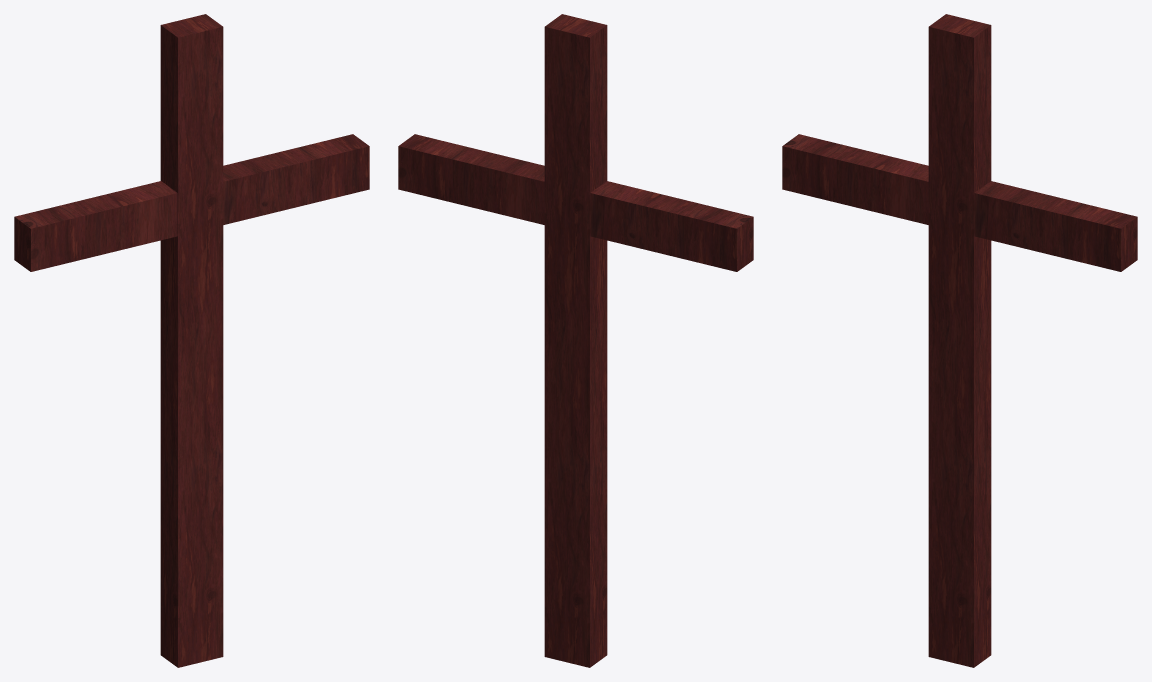
File: cruz_pequena.obj
3 renders of one model, left to right at view 1: azimuth 30°, elevation 25°; view 2: azimuth 150°, elevation 25°; view 3: azimuth 330°, elevation 25°, orthographic.
Parts seen in each view (by area): view 1: Cruz_Madera; view 2: Cruz_Madera; view 3: Cruz_Madera.
Part boxes in pixels (<box>): Cruz_Madera: <box>14,14,369,667</box>; Cruz_Madera: <box>398,14,753,667</box>; Cruz_Madera: <box>782,14,1137,667</box>.
Size of the model in its own units: 0.9 by 1.6 by 0.08.
